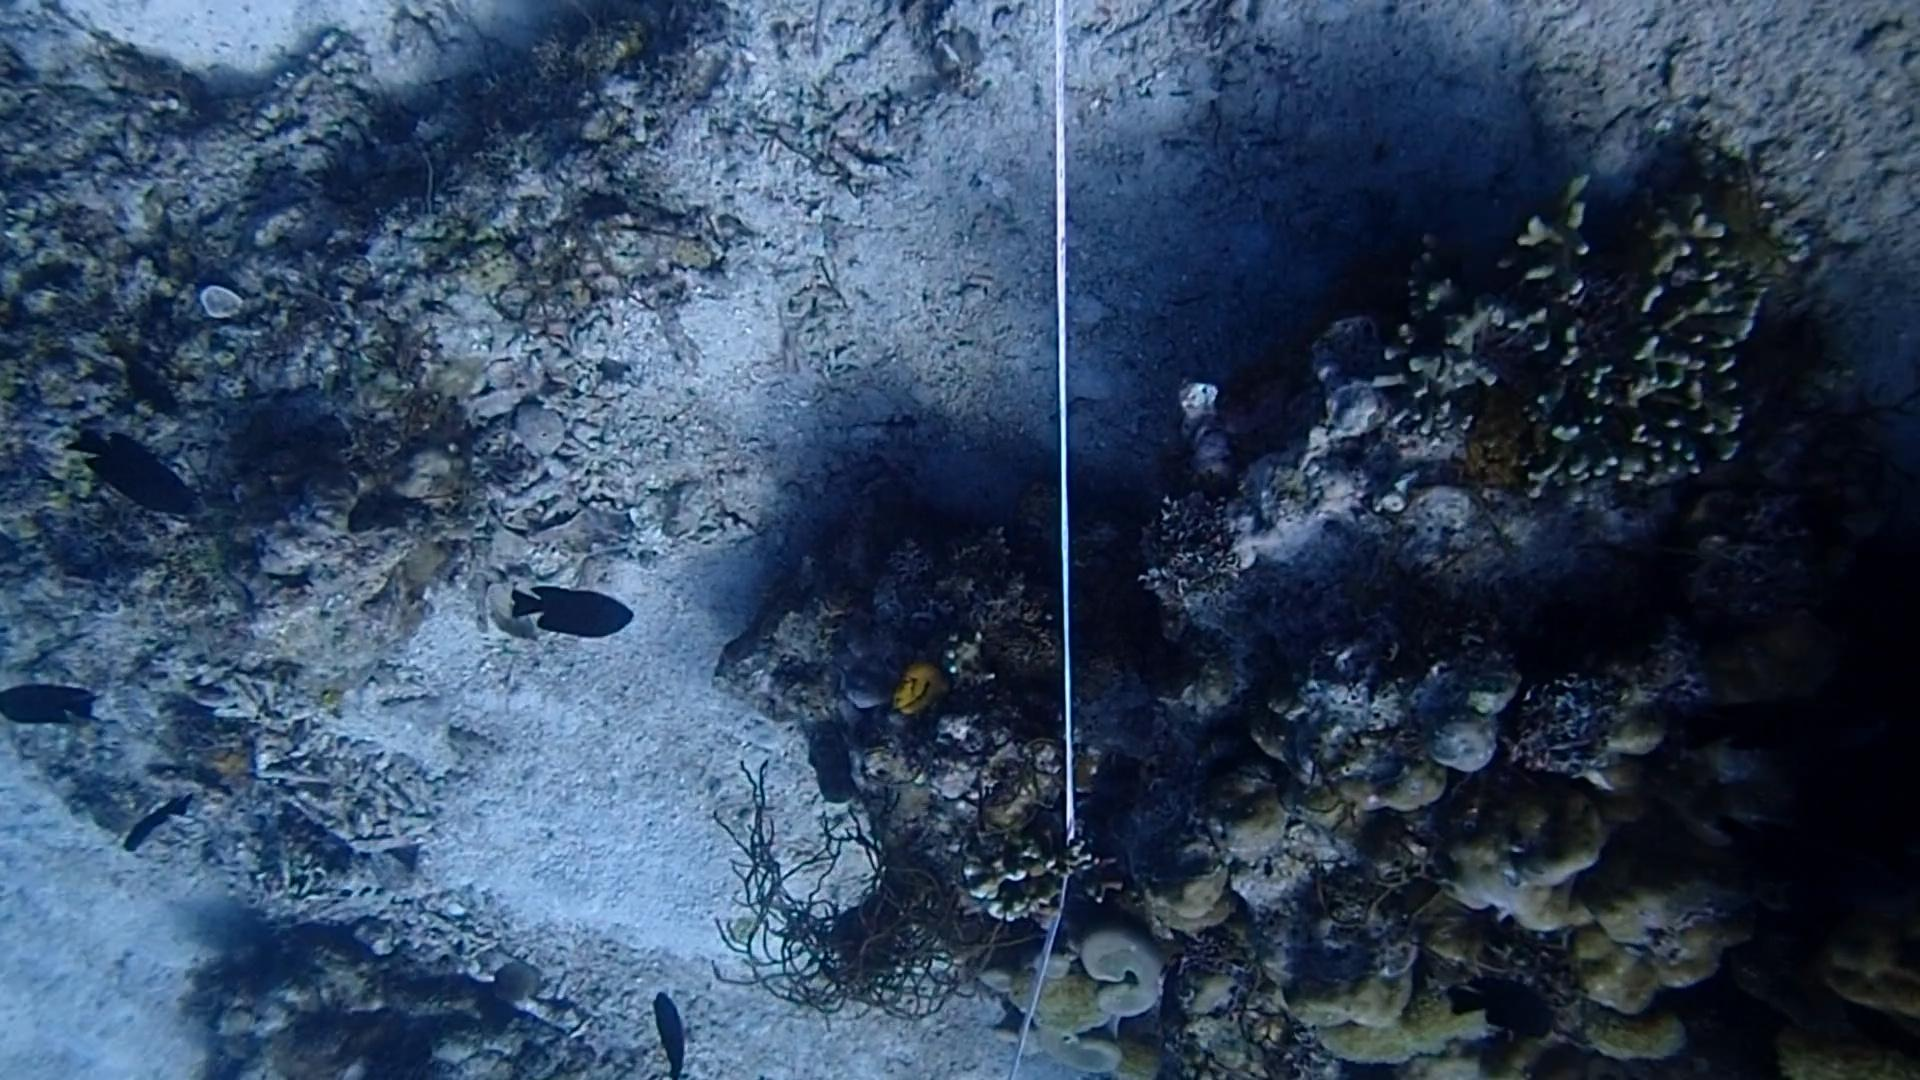Dark Fish: (54, 426, 212, 537), (502, 564, 646, 665), (99, 323, 198, 419), (0, 673, 109, 745), (112, 786, 200, 868), (636, 984, 708, 1080)
Light Fish: (469, 953, 560, 1017)
